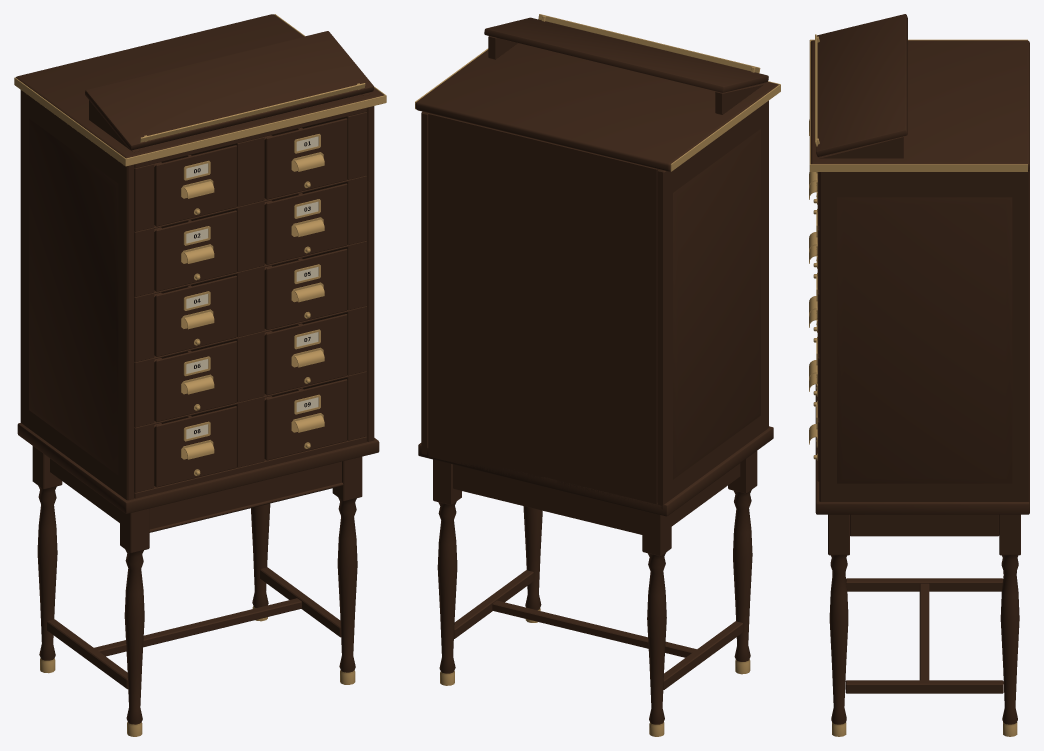
File: card_catalogue.glb
3 renders of one model, left to right at view 1: azimuth 30°, elevation 25°; view 2: azimuth 150°, elevation 25°; view 3: azimuth 270°, elevation 25°, orthographic.
Visible parts, largest first — view 1: carcass, stand, carcass_row_4, IA_cat_drawer_1, IA_cat_drawer_9, IA_cat_drawer_3, IA_cat_drawer_5, IA_cat_drawer_7, IA_cat_drawer_0, IA_cat_drawer_2, IA_cat_drawer_4, IA_cat_drawer_6 (+5 smaller); view 2: carcass, stand; view 3: carcass, stand.
Boxes of the visible parts, <box> form: carcass: <box>14,14,386,513</box>; stand: <box>32,446,362,736</box>; carcass_row_4: <box>134,371,366,498</box>; IA_cat_drawer_1: <box>264,118,347,199</box>; IA_cat_drawer_9: <box>264,379,347,460</box>; IA_cat_drawer_3: <box>264,183,347,264</box>; IA_cat_drawer_5: <box>264,248,347,329</box>; IA_cat_drawer_7: <box>264,314,347,395</box>; IA_cat_drawer_0: <box>154,145,236,226</box>; IA_cat_drawer_2: <box>154,210,236,291</box>; IA_cat_drawer_4: <box>154,275,236,356</box>; IA_cat_drawer_6: <box>154,341,236,422</box>; carcass: <box>415,14,780,516</box>; stand: <box>433,451,757,736</box>; carcass: <box>809,14,1029,514</box>; stand: <box>828,514,1020,736</box>.
Bounding box in the file's own units: 0.6744 × 1.54 × 0.5033.
